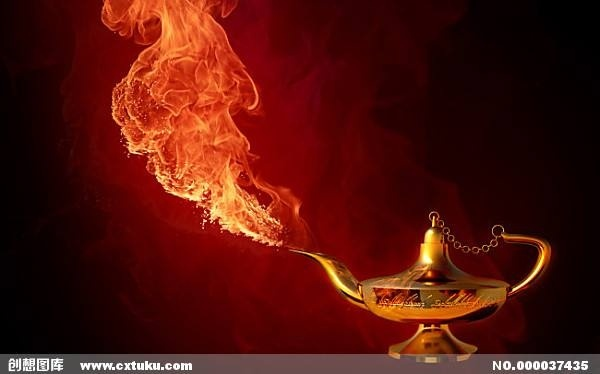fire: (106, 5, 301, 254), (417, 210, 444, 276)
